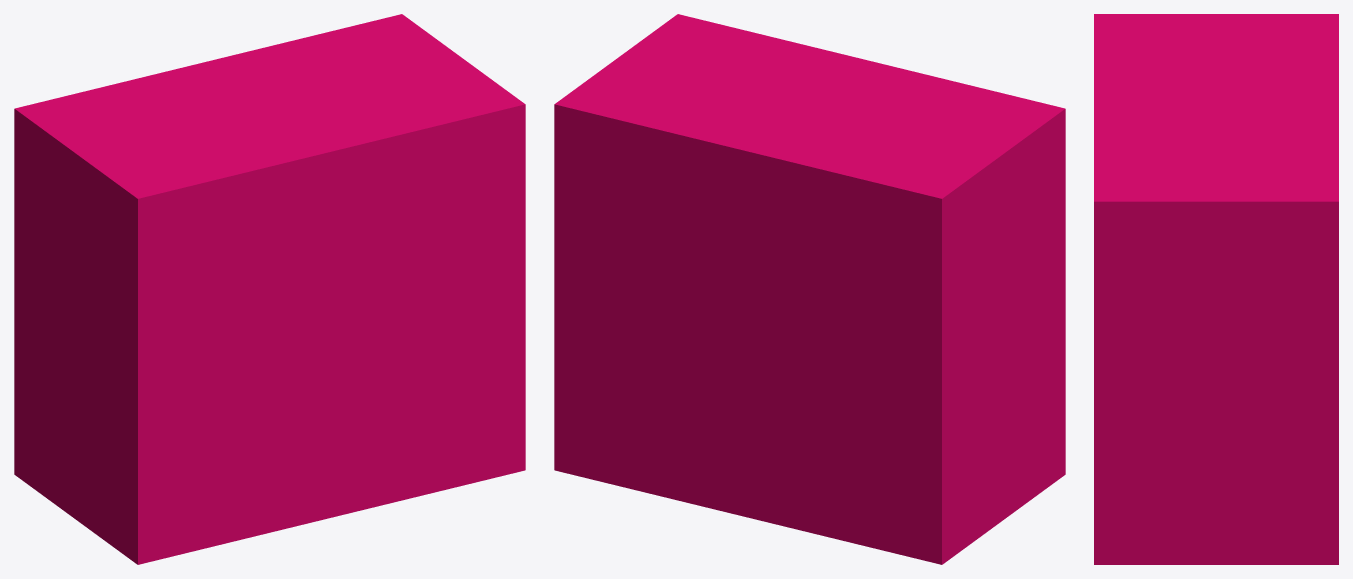
The model's file is Fan_01_Lod1.fbx.
3 views of the same model, side by side, from view 1: azimuth 30°, elevation 25°; view 2: azimuth 150°, elevation 25°; view 3: azimuth 270°, elevation 25° (orthographic).
Visible parts, largest first — view 1: Fan_01_Lod1; view 2: Fan_01_Lod1; view 3: Fan_01_Lod1.
Boxes of the visible parts, <box> form: Fan_01_Lod1: <box>14,14,525,564</box>; Fan_01_Lod1: <box>554,14,1065,564</box>; Fan_01_Lod1: <box>1094,14,1338,564</box>.
Size of the model in its own units: 78.88 by 71.17 by 43.49.
